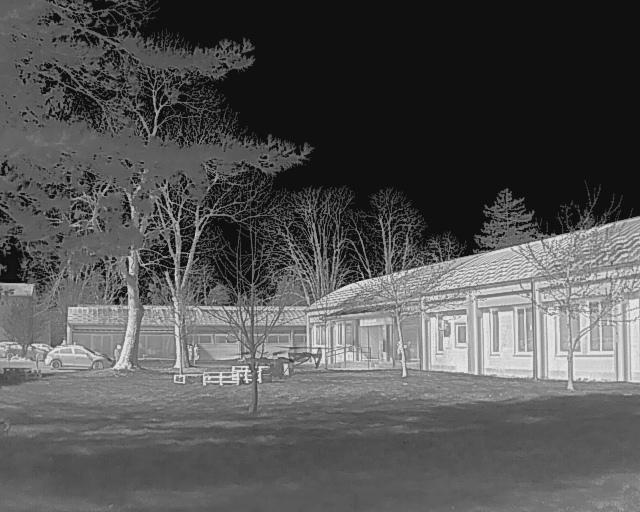drone: (230, 338, 339, 390)
